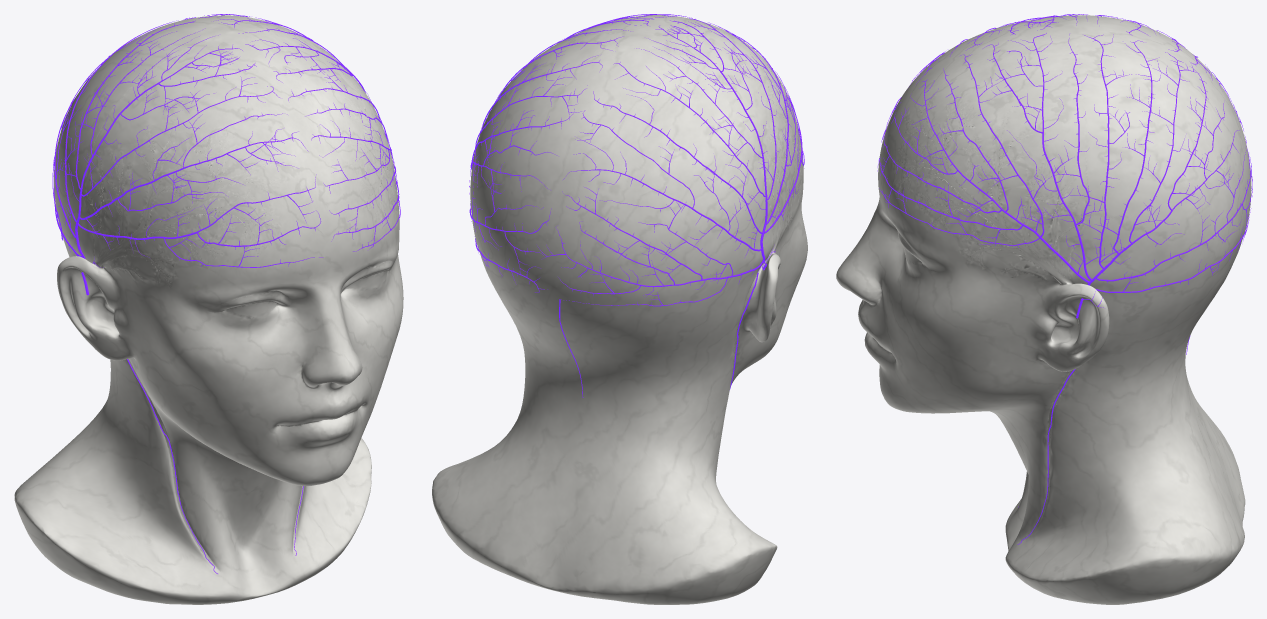
File: cymba-neural-mannequin-growing.glb
The picture shows the model from 3 angles, left to right: view 1: azimuth 30°, elevation 25°; view 2: azimuth 150°, elevation 25°; view 3: azimuth 270°, elevation 25°; orthographic projection. The views are drawn at different scales.
Visible parts, largest first — view 1: Cymba_Marble_Mannequin, Purple_Surface_Nerve_Fibres; view 2: Cymba_Marble_Mannequin, Purple_Surface_Nerve_Fibres; view 3: Cymba_Marble_Mannequin, Purple_Surface_Nerve_Fibres.
Part boxes in pixels (x1,y1,x2,y2): Cymba_Marble_Mannequin: (14, 15, 403, 604); Purple_Surface_Nerve_Fibres: (52, 14, 400, 573); Cymba_Marble_Mannequin: (432, 15, 807, 604); Purple_Surface_Nerve_Fibres: (469, 14, 804, 397); Cymba_Marble_Mannequin: (836, 15, 1251, 604); Purple_Surface_Nerve_Fibres: (877, 14, 1252, 544).
Size of the model in its own units: 2.74 by 4.27 by 3.06.
Materials: 2 (1 with a texture image).
